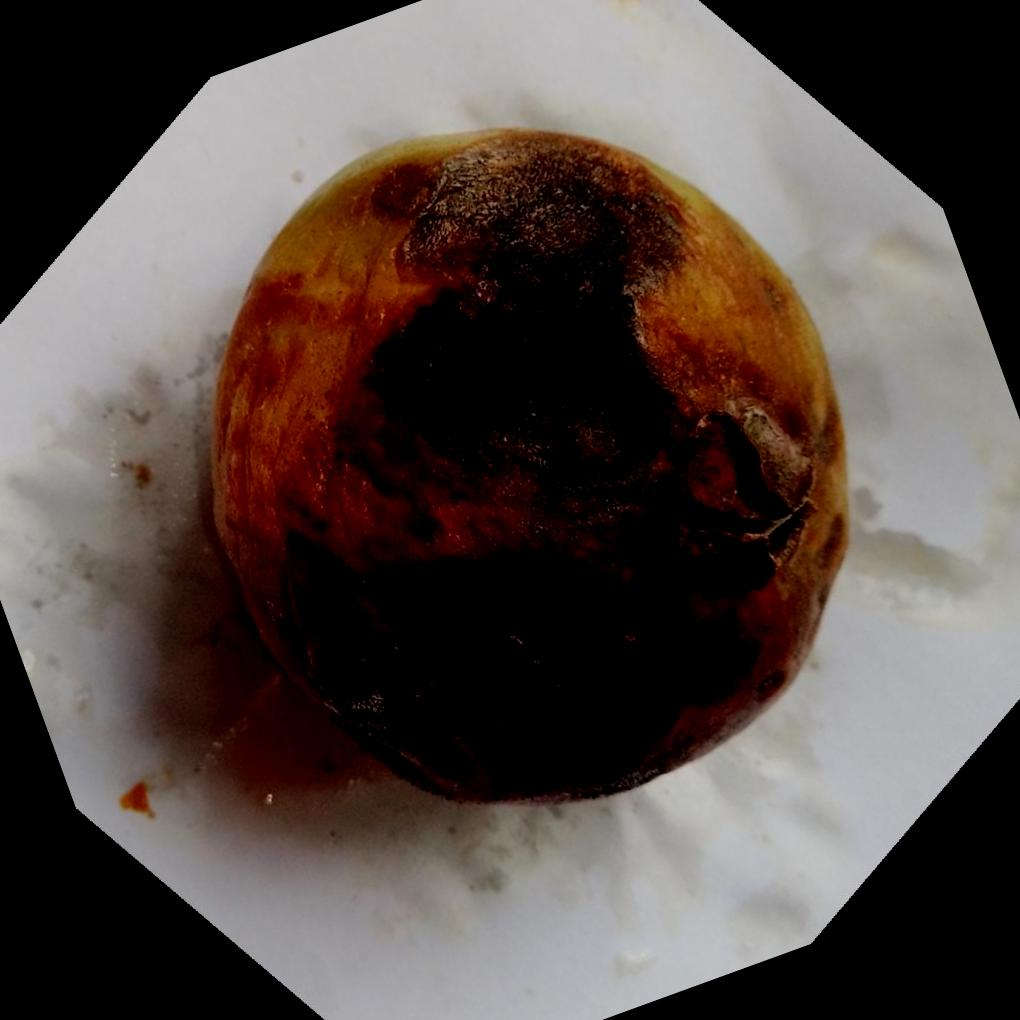FreshOrange: (209, 127, 853, 809)
